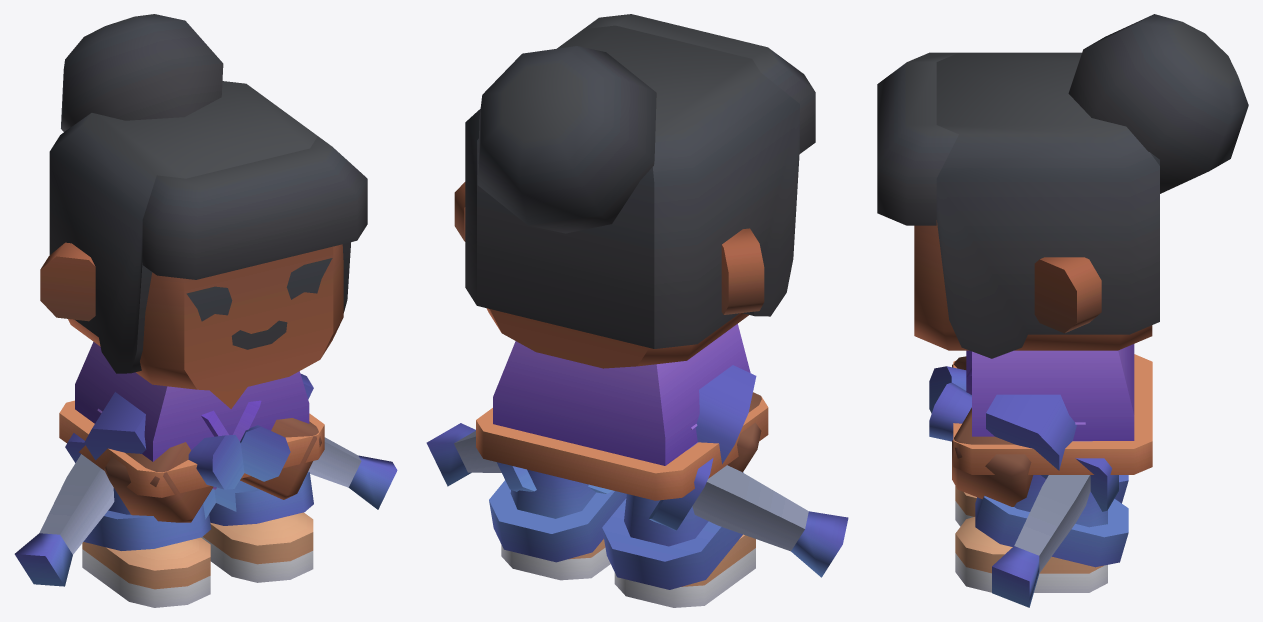
Rendered from people-female-a-cheer.glb.
3 views of the same model, side by side, from view 1: azimuth 30°, elevation 25°; view 2: azimuth 150°, elevation 25°; view 3: azimuth 270°, elevation 25° (orthographic). The views are drawn at different scales.
Parts seen in each view (by area): view 1: character-female-a-cheer; view 2: character-female-a-cheer; view 3: character-female-a-cheer.
Boxes of the visible parts, x1,y1,x2,y2 form: character-female-a-cheer: (14, 14, 397, 607); character-female-a-cheer: (426, 14, 848, 607); character-female-a-cheer: (877, 14, 1248, 607).
Size of the model in its own units: 0.6099 by 0.7755 by 0.4995.
1 material, 1 textured.
